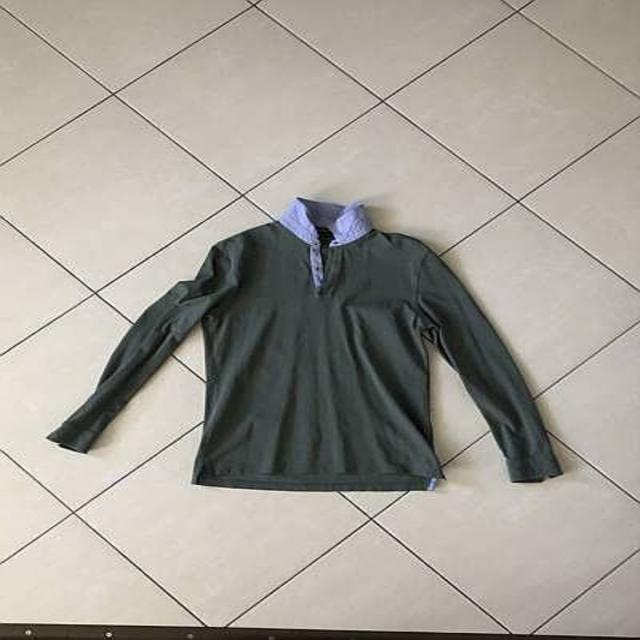SHIRT: (44, 194, 579, 498)
